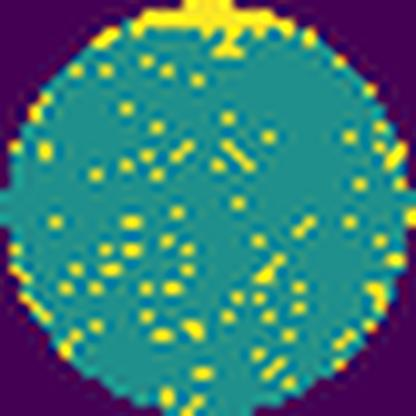Edge-Loc: (129, 0, 305, 59)
